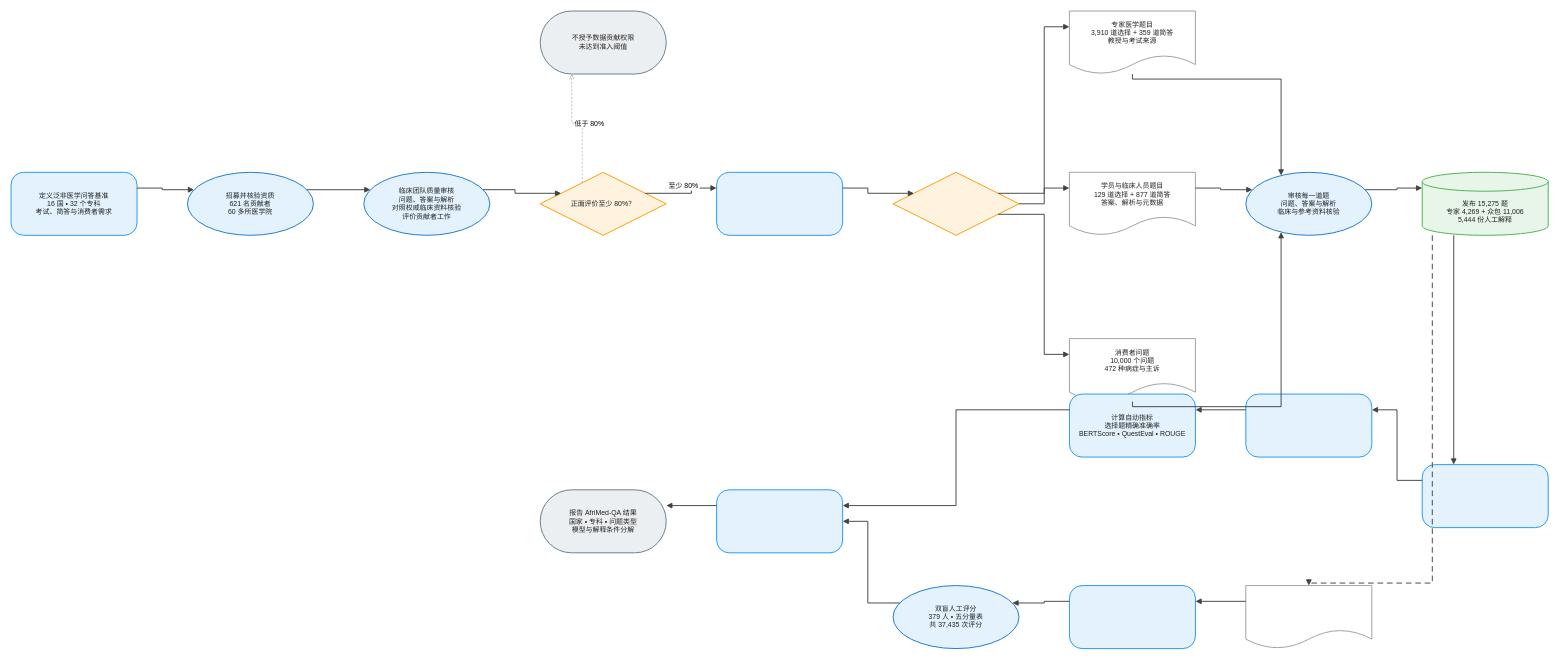
This 1560x660 diagram has some shape labels left out. The shapes that lost their labels are listed below. From the top down, each one's box as (x1, y1, x2, y2) in pixels, then its label:
(716, 172, 843, 235): 角色分级贡献权限 临床资质用于受限项目 每位贡献者最多 300 题
(892, 172, 1019, 235): 选择问题收集路线
(1245, 393, 1372, 457): 生成全基准回答 默认 API 或检查点配置 保留问题子集信息
(1421, 464, 1548, 528): 选择 30 个大模型 17 个开源 + 13 个闭源 通用与生物医学模型
(716, 489, 843, 553): 综合评测证据 临床人员与消费者维度 正确性、本地化与危害
(1069, 585, 1196, 649): 收集抽样问题的模型回答 保持模型身份盲化
(1245, 585, 1372, 649): 随机抽取 3,000 个问题 先选问题 用于人工评测
